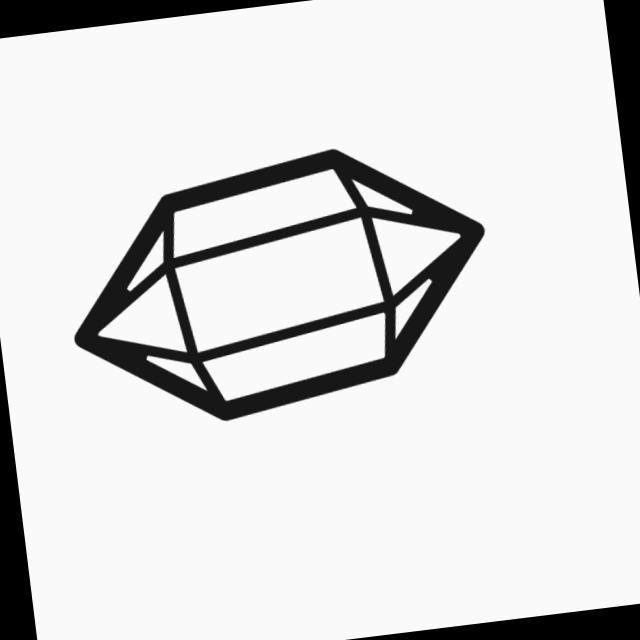crystal: (48, 123, 512, 447)
